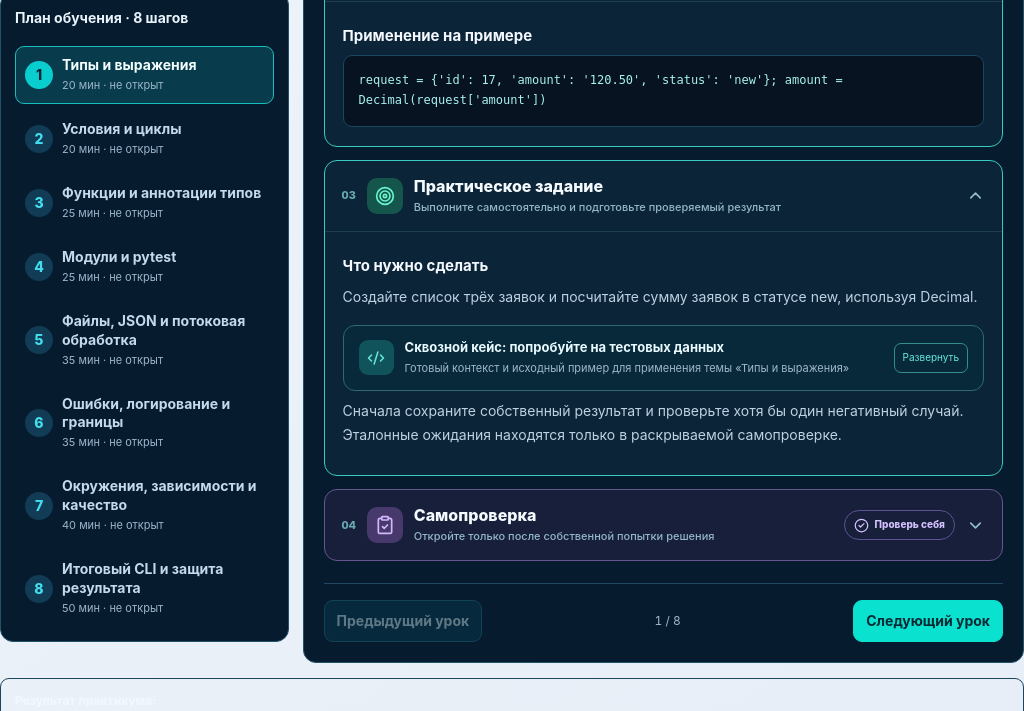
Test case: Bootcamp editorial course curriculum › combines all four parts in one lesson and hides self-check until intentional reveal
(page scrolled)
Click the button that starts with "Самопроверка" at (385, 525), box [325,490,1002,560]
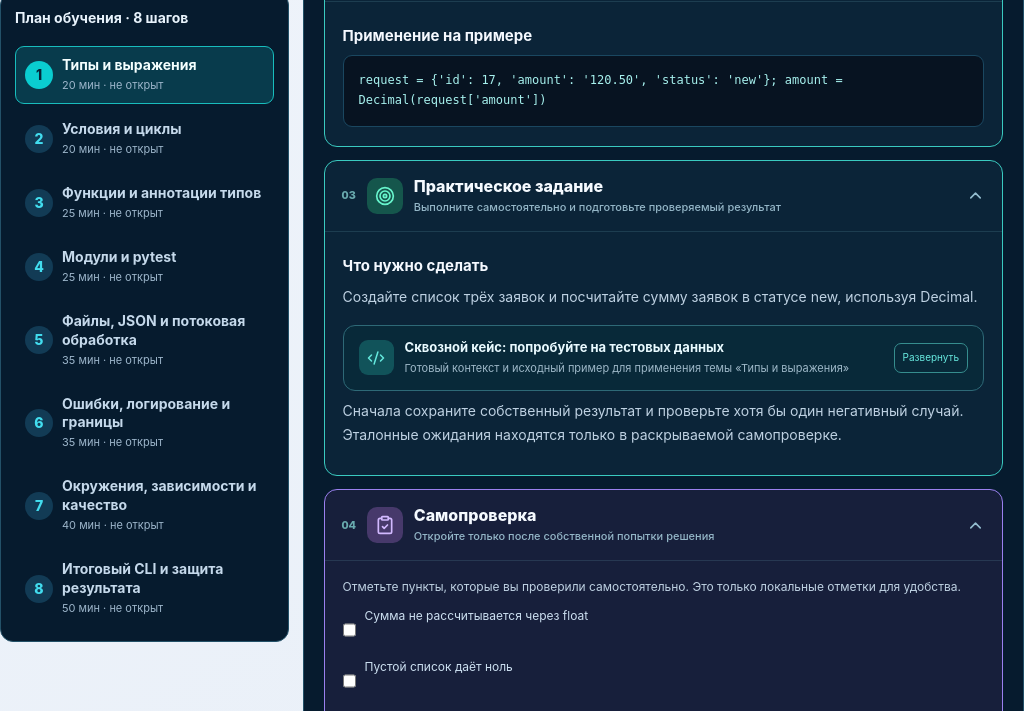
Expected: the button that starts with "Самопроверка" is expanded
Expected: the checkbox labelled "Сумма не рассчитывается через float" is shown, [343,610,356,650]
Click the button that starts with "Самопроверка" at (385, 525), box [325,490,1002,560]
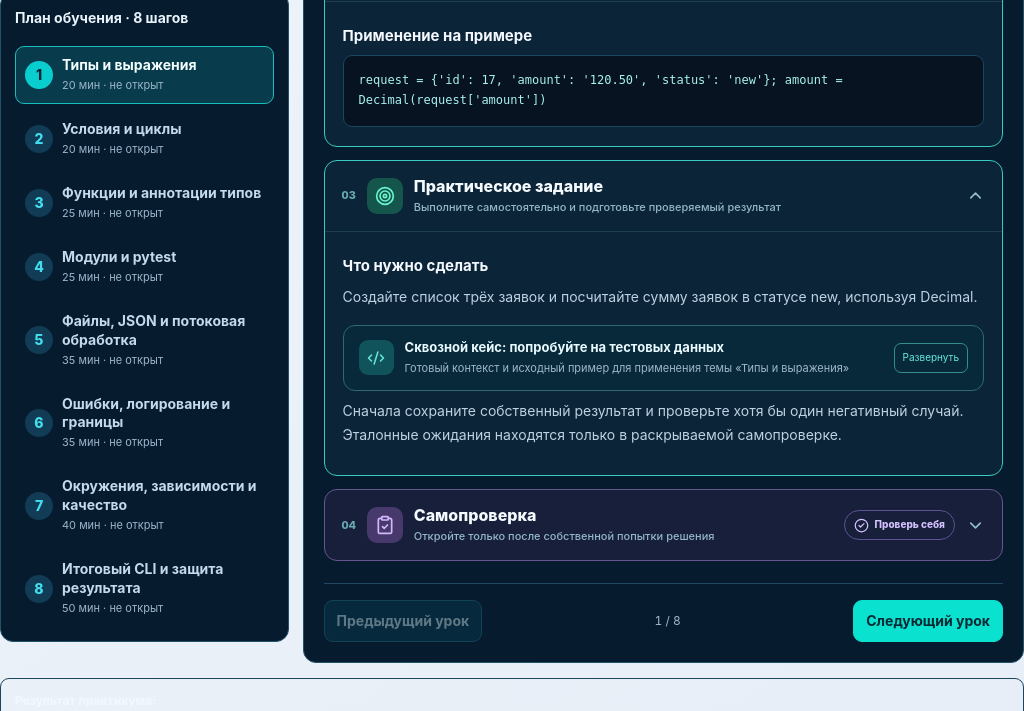
Expected: the checkbox is gone
